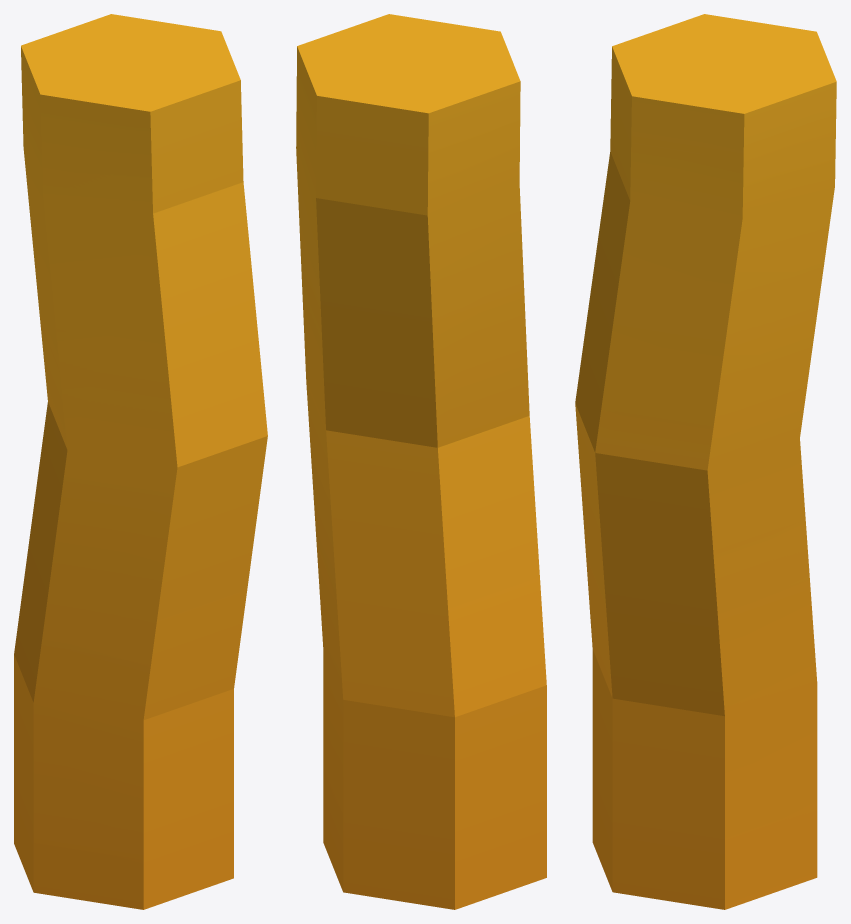
Rendered from Coin_05.fbx.
3 views of the same model, side by side, from view 1: azimuth 30°, elevation 25°; view 2: azimuth 150°, elevation 25°; view 3: azimuth 270°, elevation 25° (orthographic). The views are drawn at different scales.
Visible parts, largest first — view 1: Coin_05; view 2: Coin_05; view 3: Coin_05.
Boxes of the visible parts, box(x1,y1,x2,y2) form: Coin_05: box(14, 14, 267, 909); Coin_05: box(296, 14, 546, 909); Coin_05: box(575, 14, 836, 909).
Size of the model in its own units: 0.1514 by 0.5042 by 0.1486.
